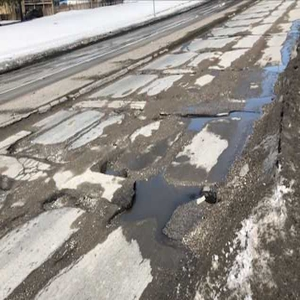pothole: (113, 175, 204, 248), (185, 109, 262, 126), (39, 188, 85, 211), (100, 162, 128, 179)
